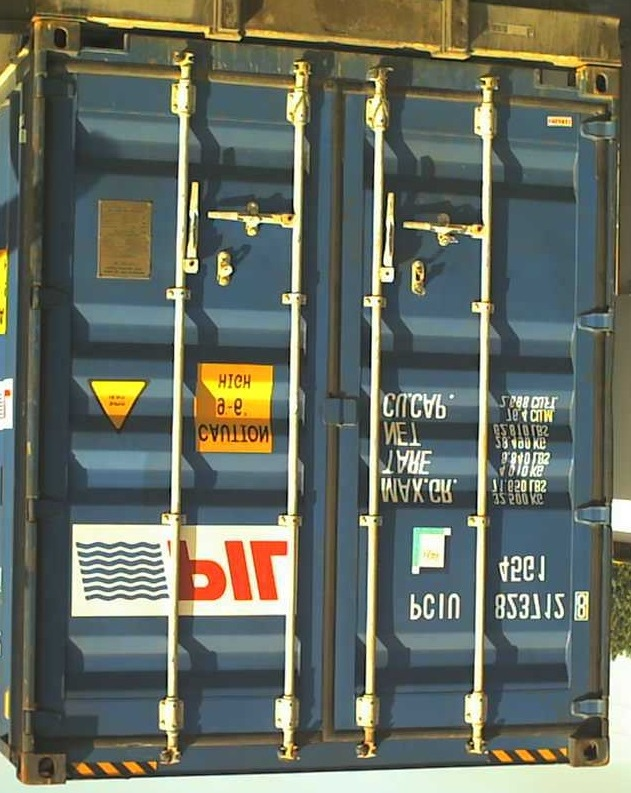container_door: (21, 5, 625, 780)
